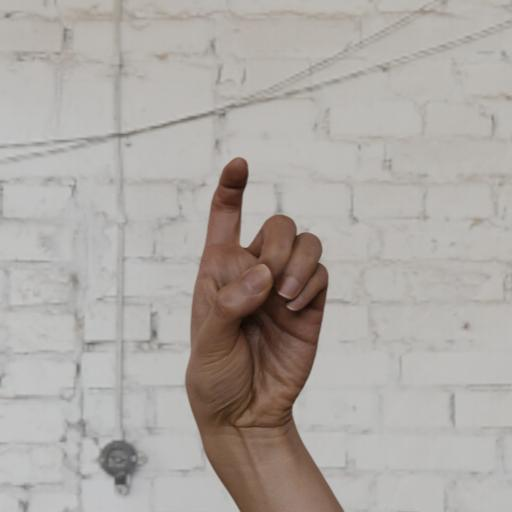X: (154, 132, 404, 471)
